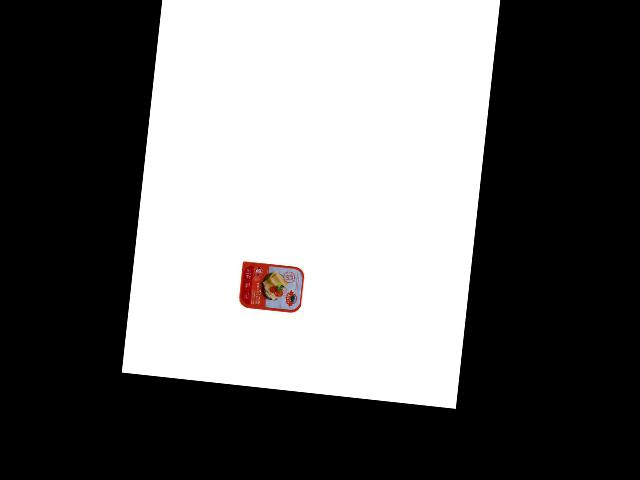cheese: (233, 259, 306, 316)
